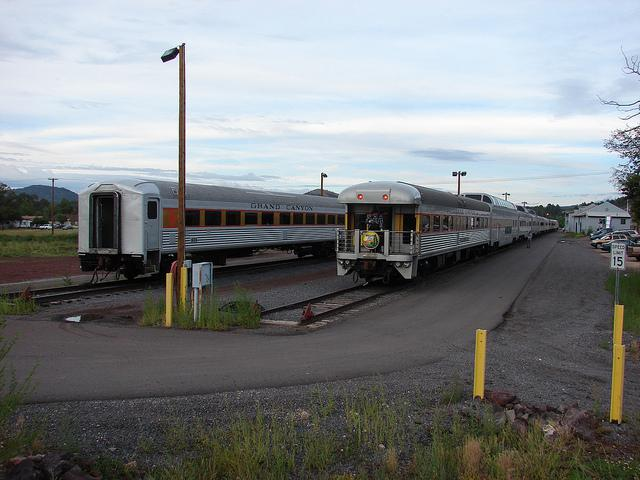Train: (77, 178, 344, 282), (334, 186, 569, 291)
